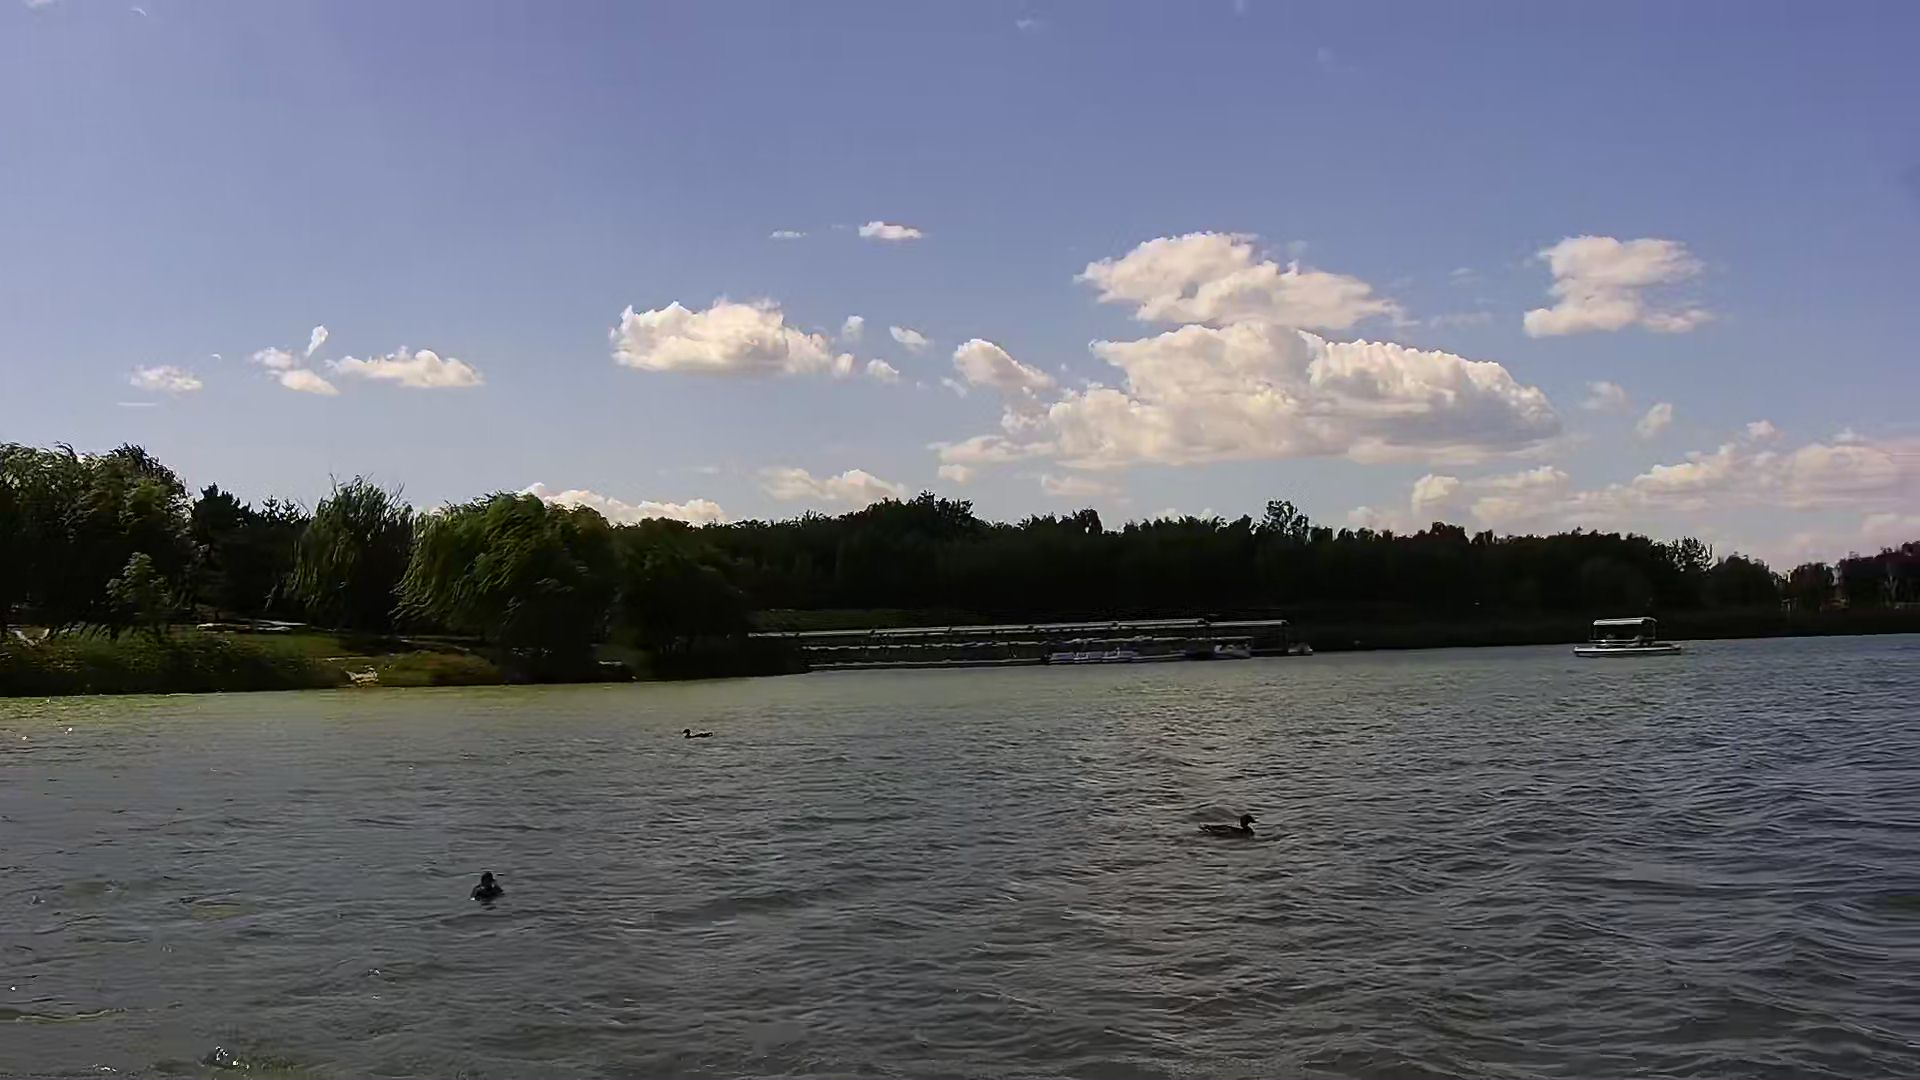animal: (1191, 814, 1266, 848), (467, 872, 497, 905), (684, 723, 717, 746)
boat: (1571, 615, 1681, 659)
harbor: (806, 626, 1294, 657)
rock: (347, 673, 375, 684)
